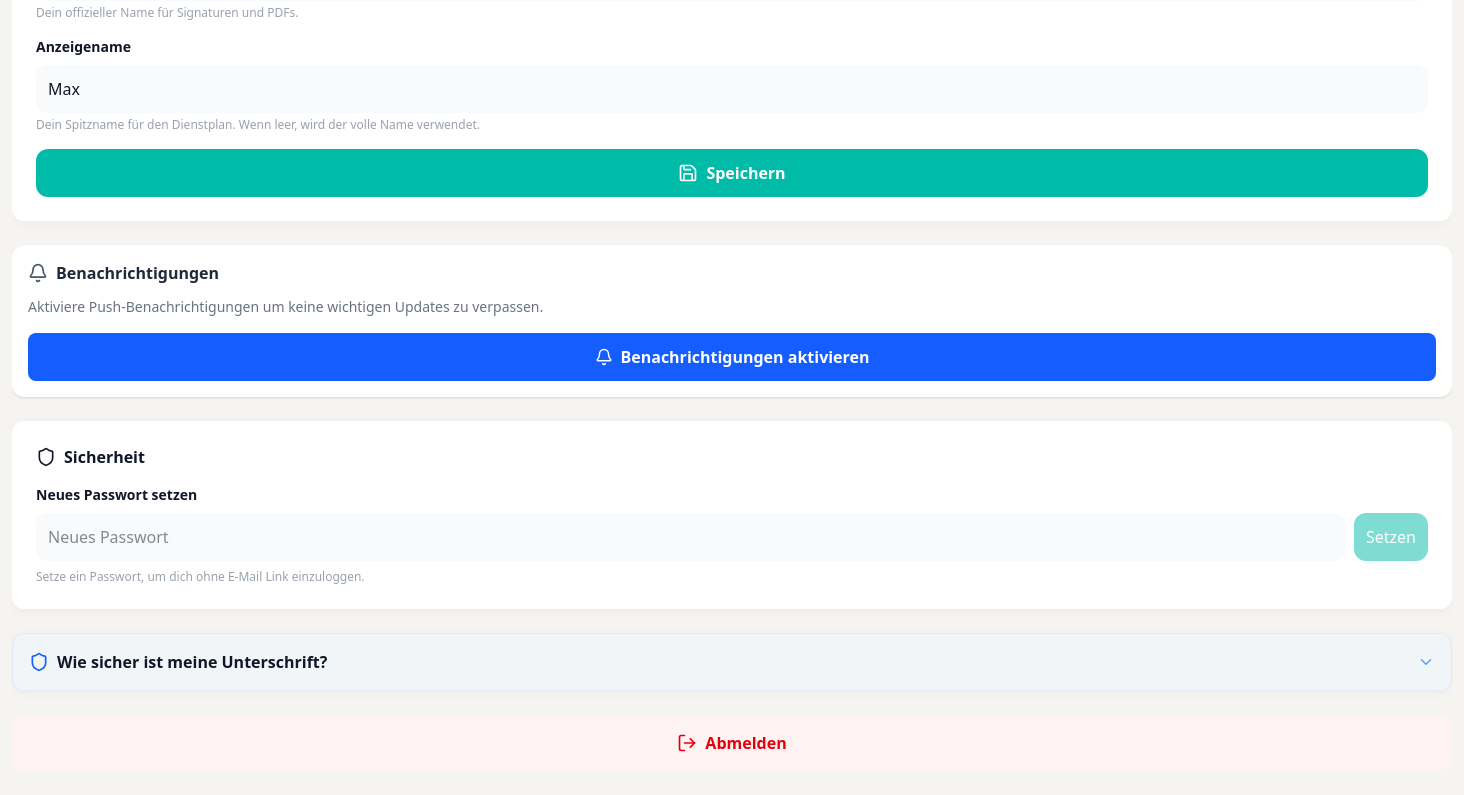
Scenario: ProfileSettings › shows signature security info section
(page scrolled)
expect the text "Wie sicher ist meine Unterschrift?" is shown: met, box [29, 650, 327, 674]
expect the text "Fortgeschrittene Elektronische Signatur" is not shown: met
What coordinates should you click on to do the following:
click the button "Wie sicher ist meine Unterschrift?"
I would click on:
 (192, 662)
Its box is [13, 634, 1451, 690].
(page scrolled)
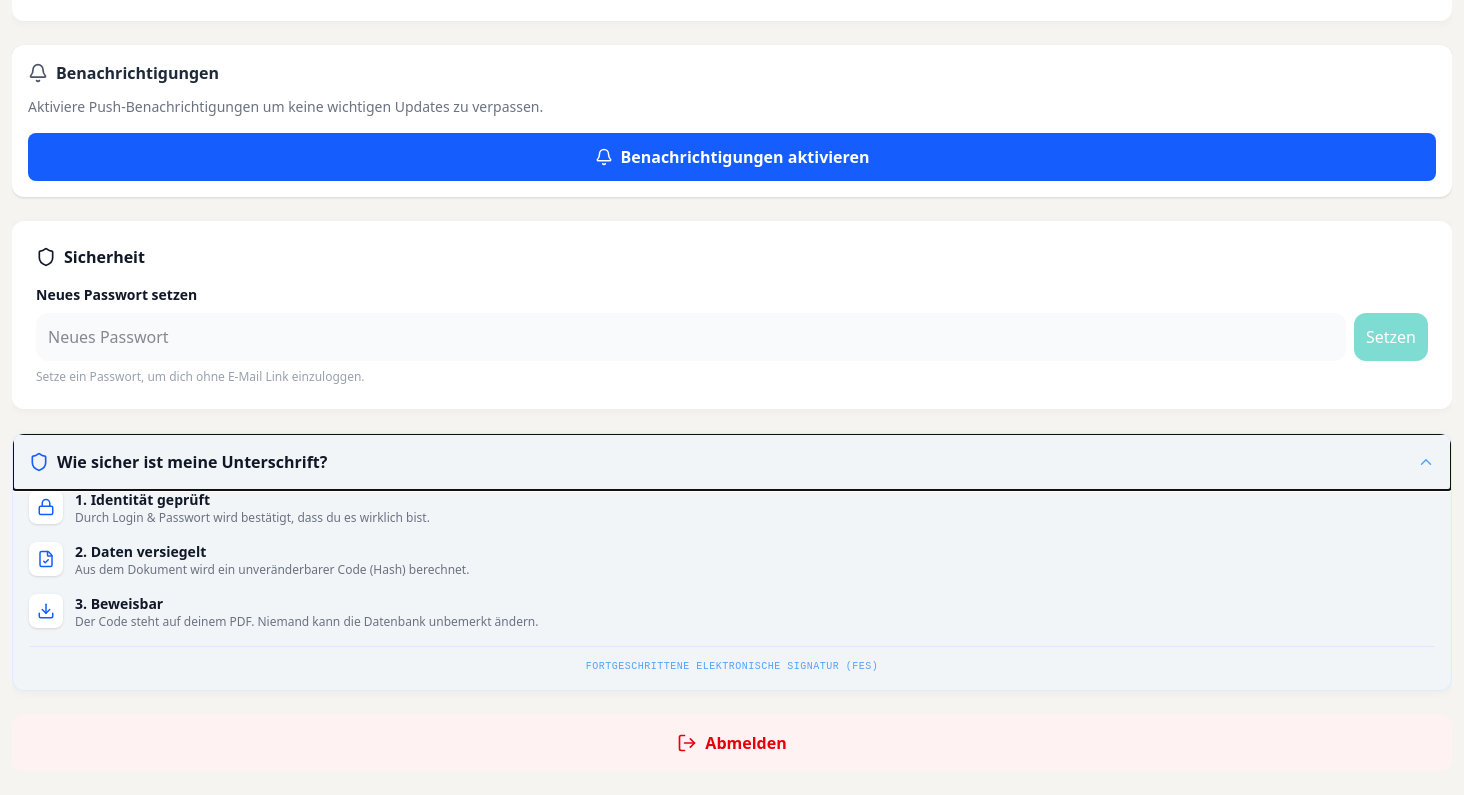
expect the text "Fortgeschrittene Elektronische Signatur (FES)" is shown: met, box [586, 661, 878, 672]
